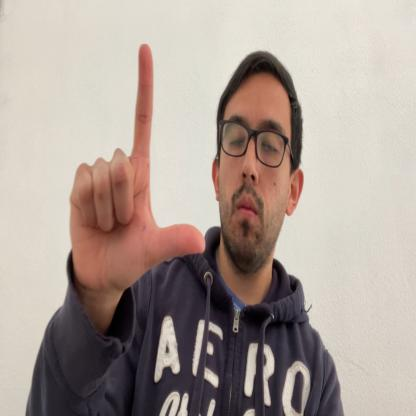L: (70, 44, 206, 289)
